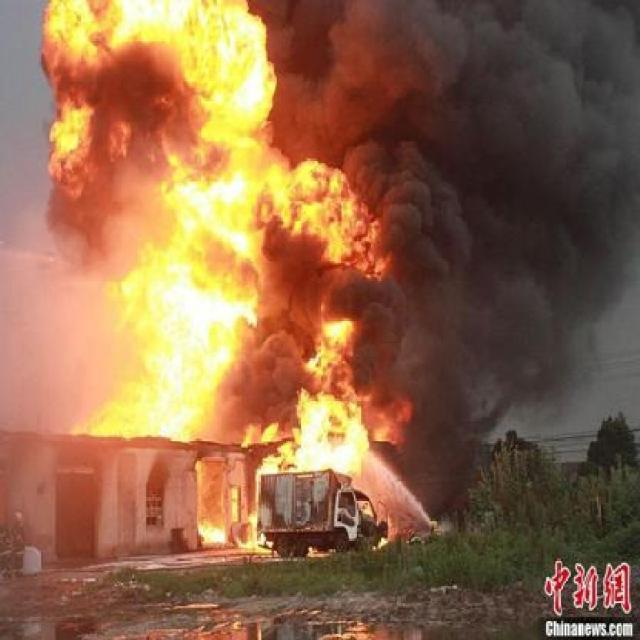Fire: (45, 0, 383, 571)
Smoke: (398, 0, 640, 435)
